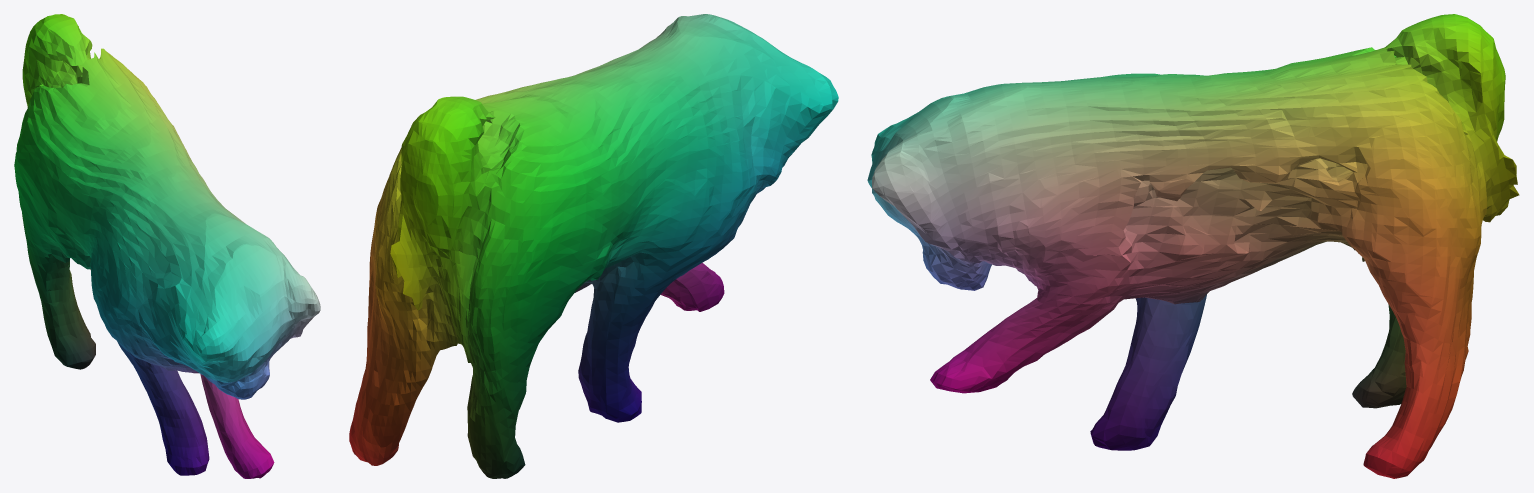
Rendered from shiba-haru-1001-mesh-00028.obj.
3 views of the same model, side by side, from view 1: azimuth 30°, elevation 25°; view 2: azimuth 150°, elevation 25°; view 3: azimuth 270°, elevation 25° (orthographic). The views are drawn at different scales.
Bounding box in the file's own units: 0.0528 × 0.0906 × 0.1236.
